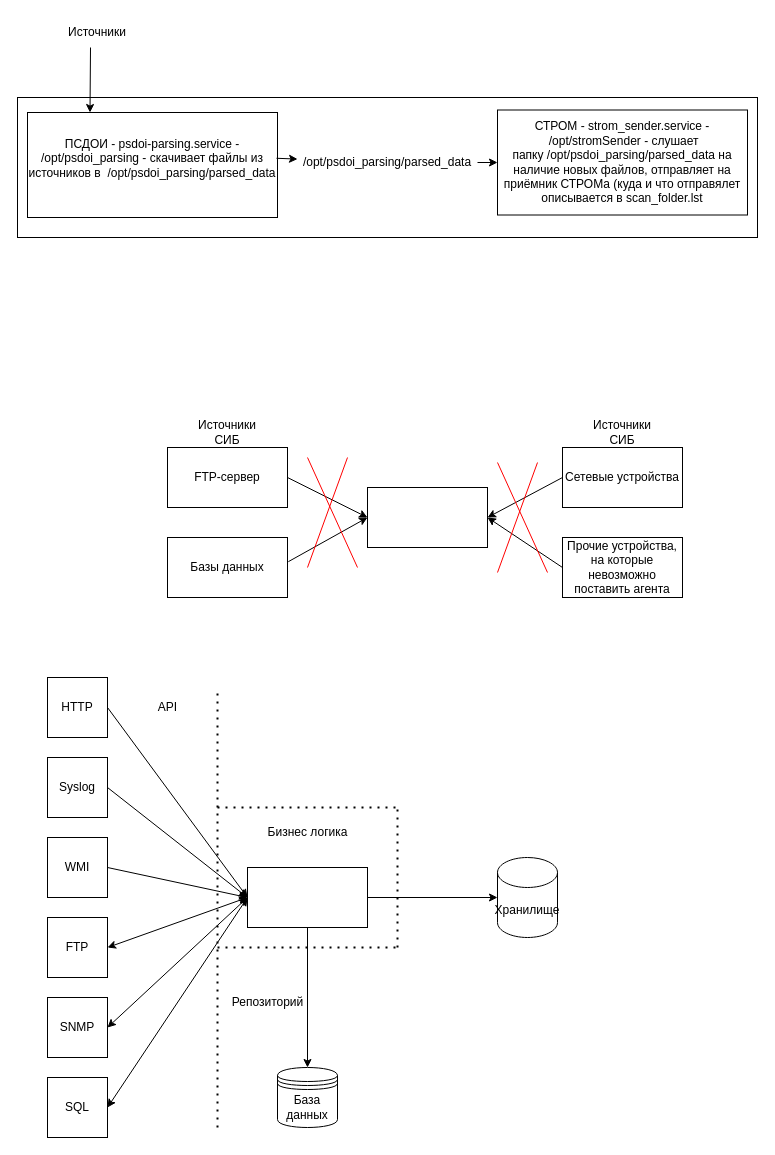
Image size: 775x1155. Some labels were removed from this diagram. Here are the shapes that lost their labels. From the top down, the centre of each, then its label:
At point 427,517: "Сервер SIEM-системы".
At point 307,897: "Filter-microservice".
